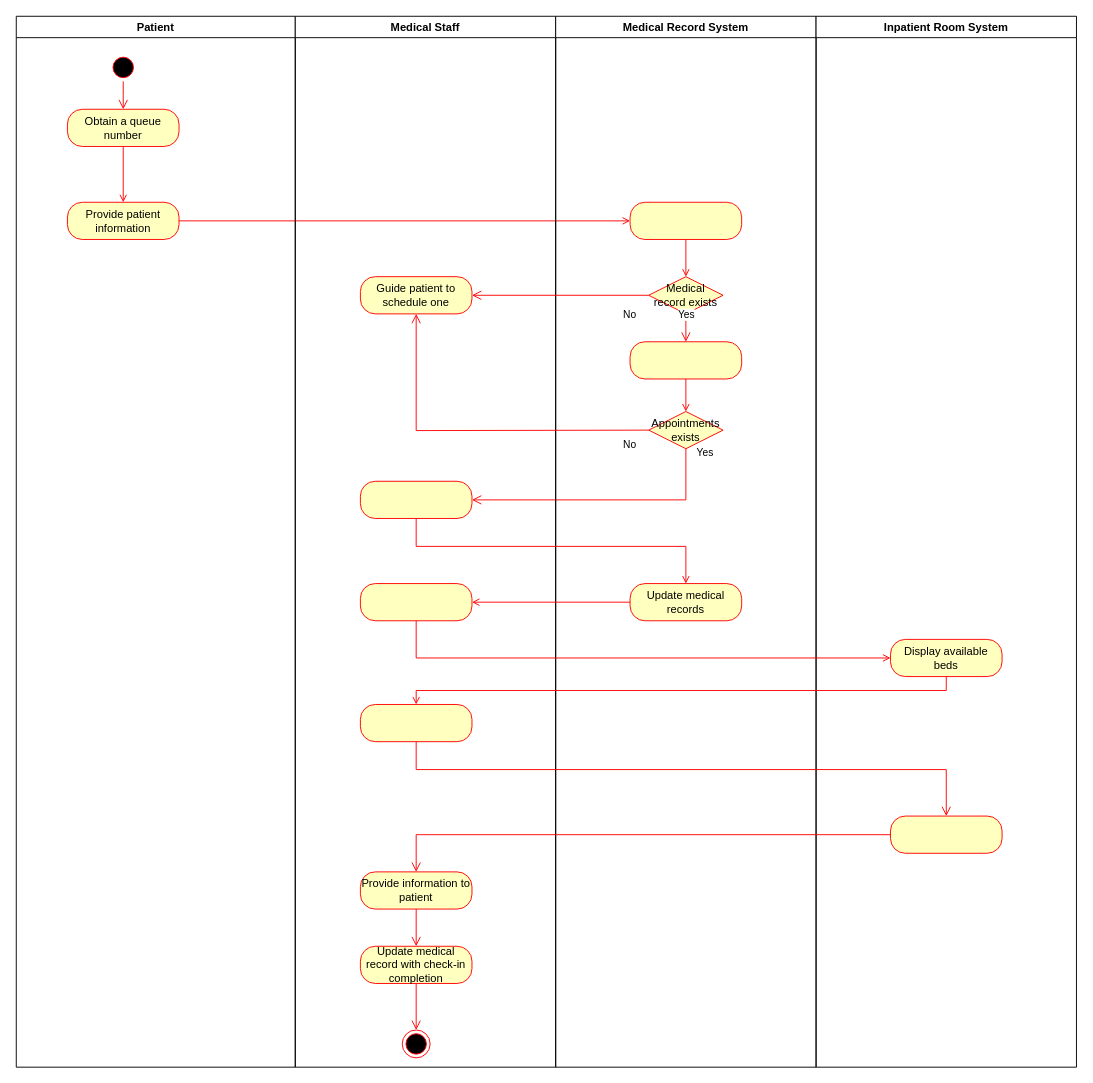
Some shapes in this 1093 by 1083 pixel diagram are drawn without their labels. Each missing label, with the centre of its shape:
"Confirm appointment" belongs at point (415, 499).
"Consider and assign bed" belongs at point (415, 723).
"Record admission information" belongs at point (415, 602).
"Record bed information" belongs at point (946, 834).
"Verify appointment existence" belongs at point (685, 360).
"Verify patient information" belongs at point (685, 220).
